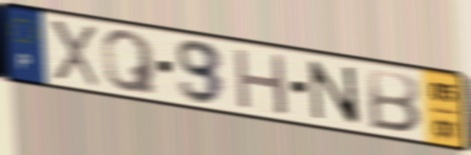9: (173, 39, 229, 108)
B: (366, 66, 423, 136)
H: (232, 45, 291, 118)
N: (305, 57, 365, 129)
Q: (99, 28, 160, 97)
X: (46, 16, 103, 90)
